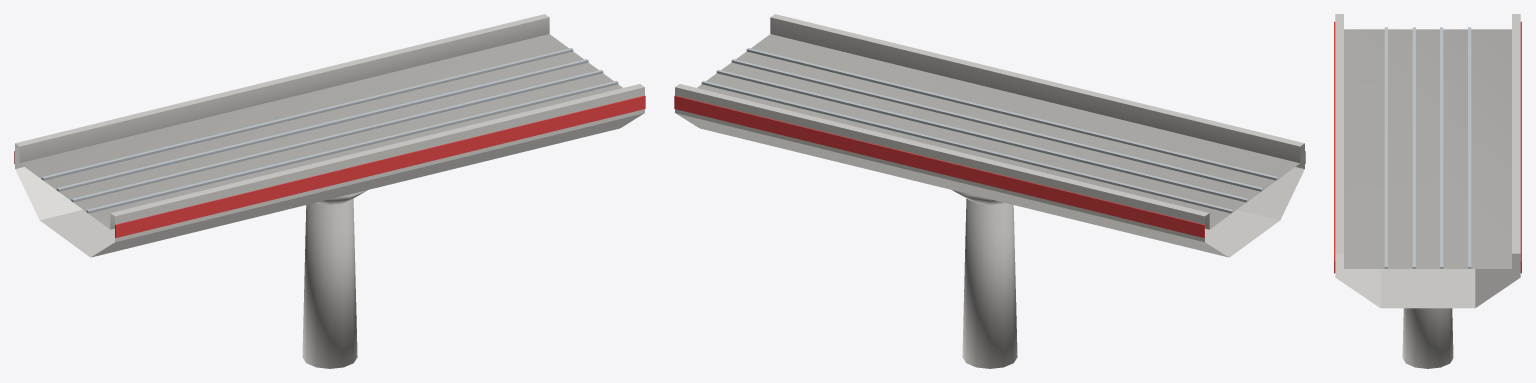
Rendered from viaduct_segment.glb.
3 views of the same model, side by side, from view 1: azimuth 30°, elevation 25°; view 2: azimuth 150°, elevation 25°; view 3: azimuth 270°, elevation 25° (orthographic). The views are drawn at different scales.
Visible parts, largest first — view 1: viaduct_segment; view 2: viaduct_segment; view 3: viaduct_segment.
Part boxes in pixels (x1,y1,x2,y2): viaduct_segment: (14, 14, 645, 368); viaduct_segment: (674, 14, 1305, 368); viaduct_segment: (1334, 14, 1521, 368).
Bounding box in the file's own units: 30 × 13.1 × 9.94.
